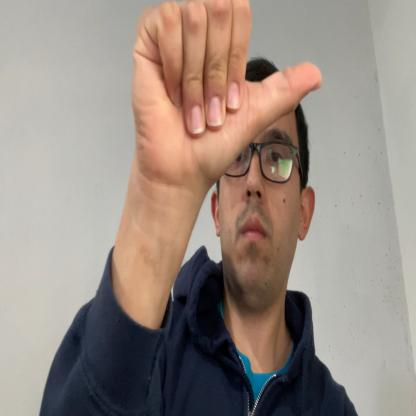A: (132, 3, 323, 189)
